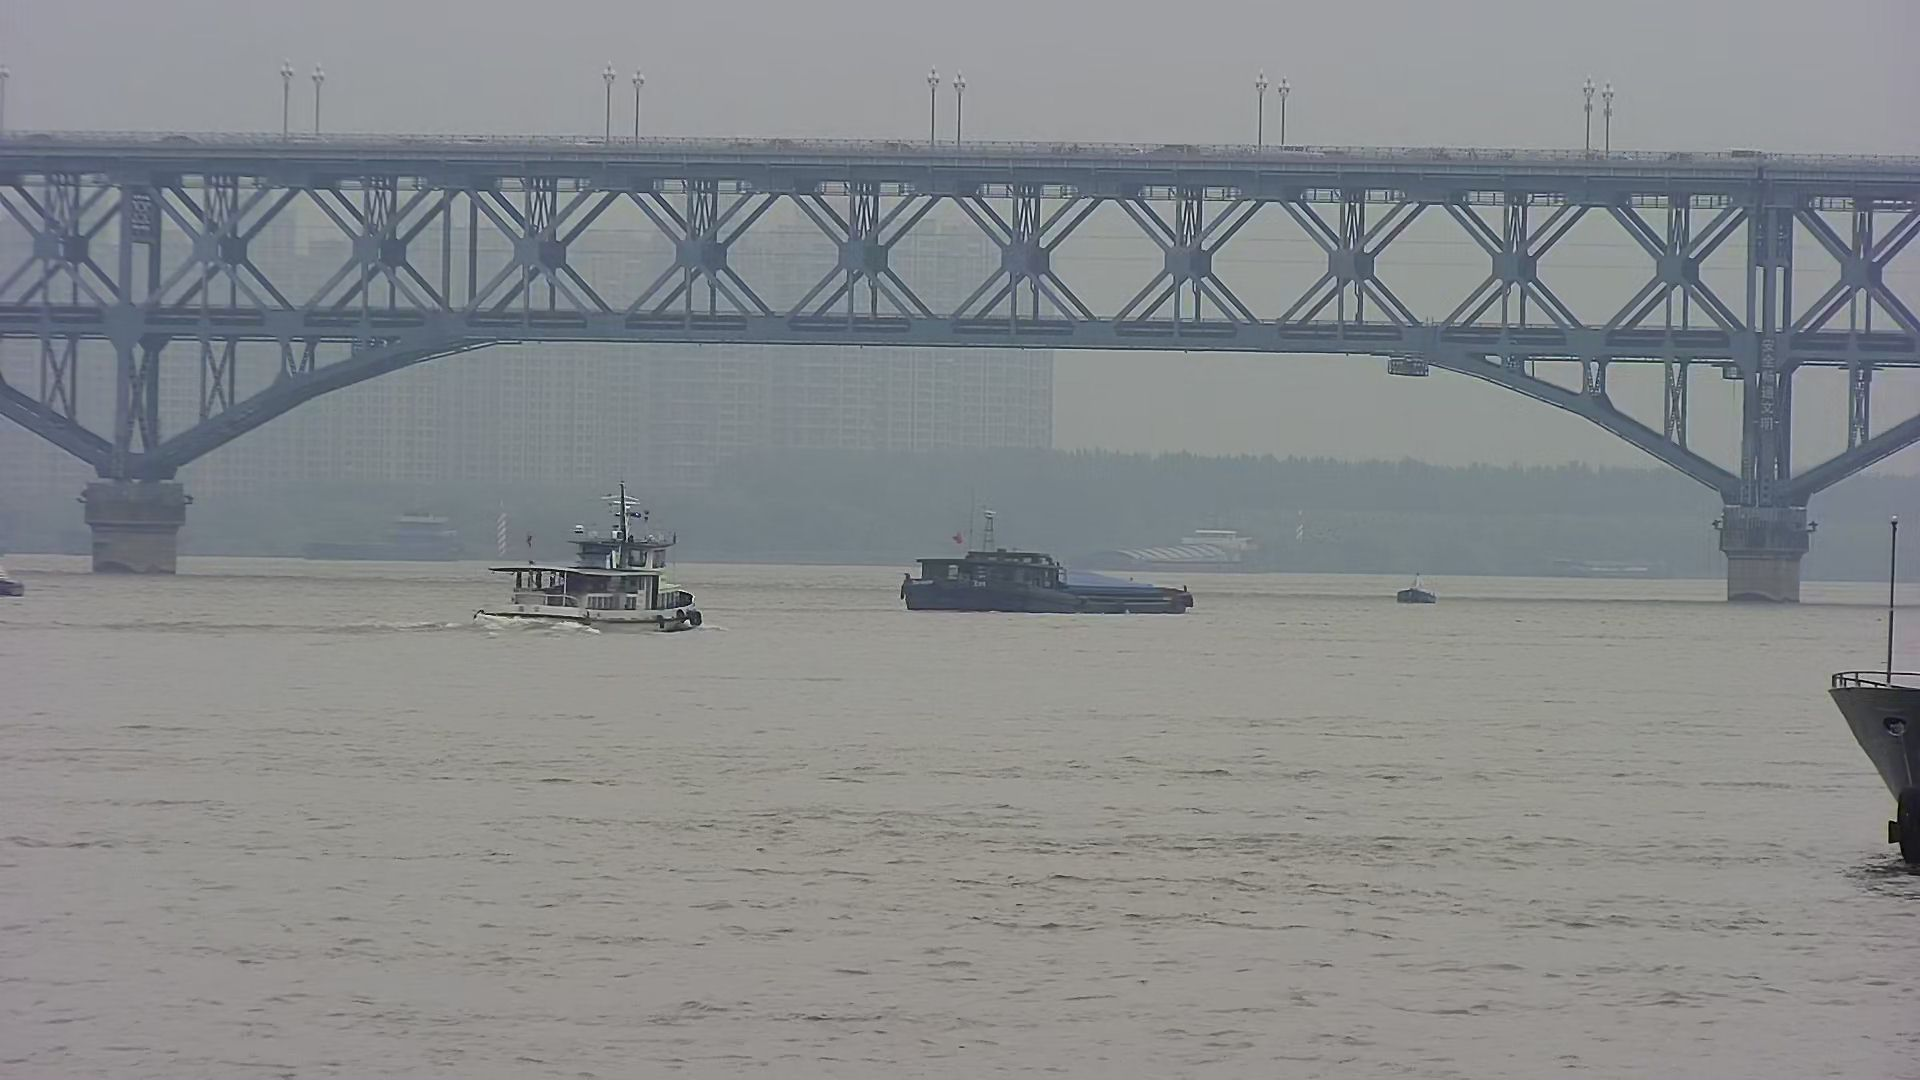boat: (1375, 560, 1458, 609)
bridge: (1, 131, 1913, 611)
ship: (887, 485, 1217, 624), (465, 472, 720, 647)
